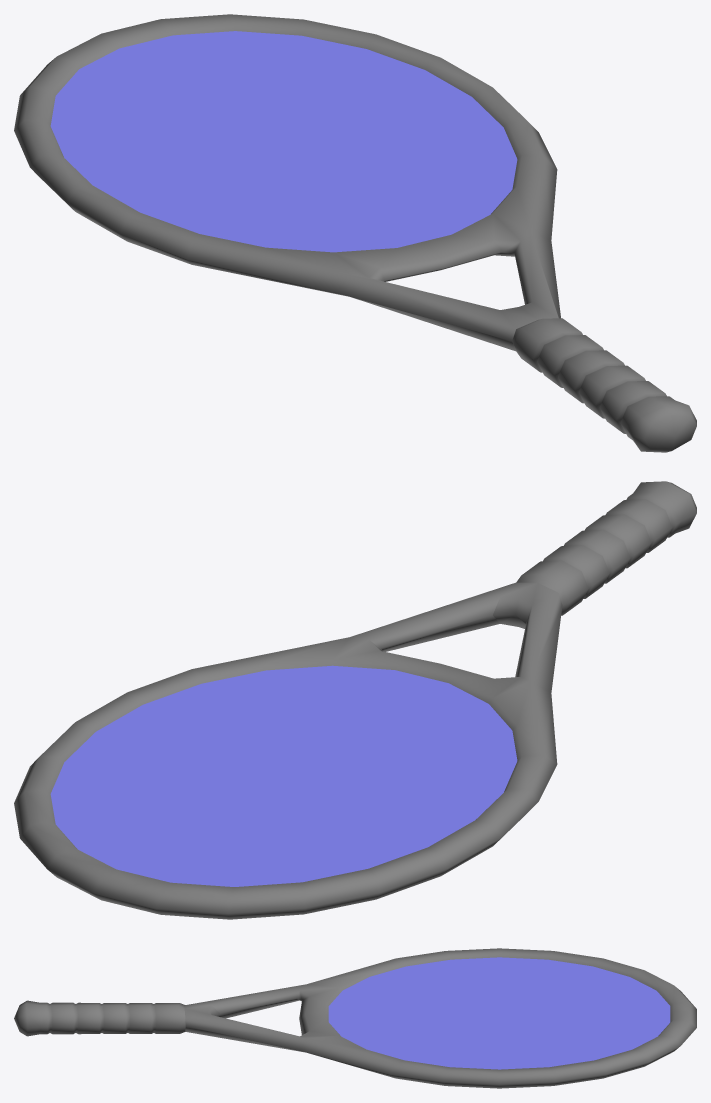
The model's file is Rackets2.fbx.
3 renders of one model, top to bottom at view 1: azimuth 30°, elevation 25°; view 2: azimuth 150°, elevation 25°; view 3: azimuth 270°, elevation 25°, orthographic. The views are drawn at different scales.
Visible parts, largest first — view 1: Racket001; view 2: Racket001; view 3: Racket001.
Boxes of the visible parts, x1=… form: Racket001: x1=14, y1=14, x2=696, y2=452; Racket001: x1=14, y1=481, x2=696, y2=919; Racket001: x1=14, y1=948, x2=696, y2=1088.
Bounding box in the file's own units: 0.4463 × 0.9778 × 0.0462.
